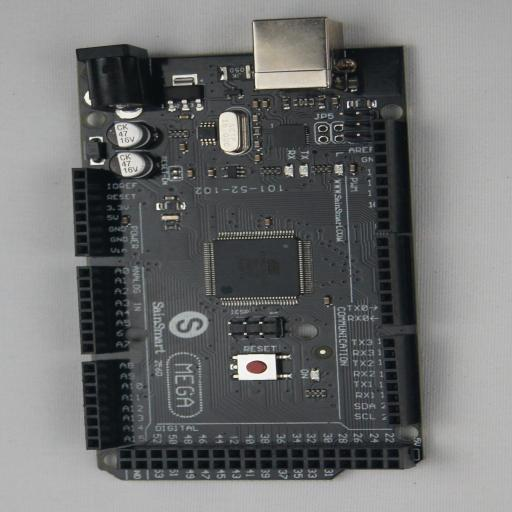Arduino Mega 2560 -Black-: (72, 17, 428, 480)
